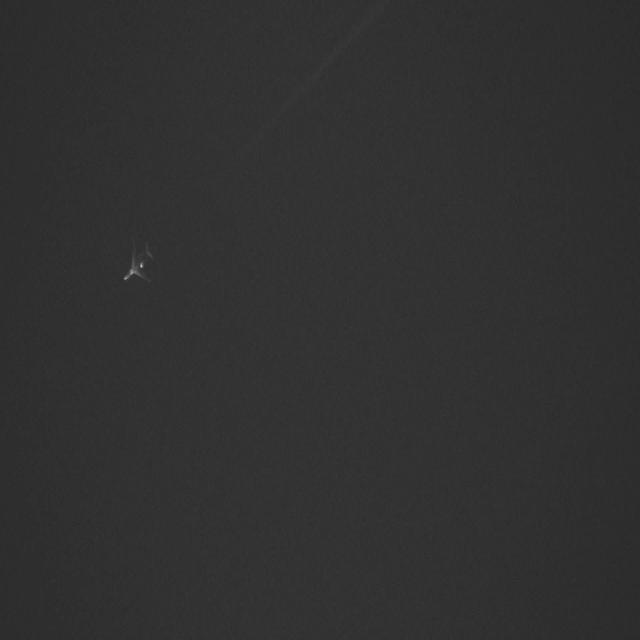aeroplane: (121, 234, 156, 286)
